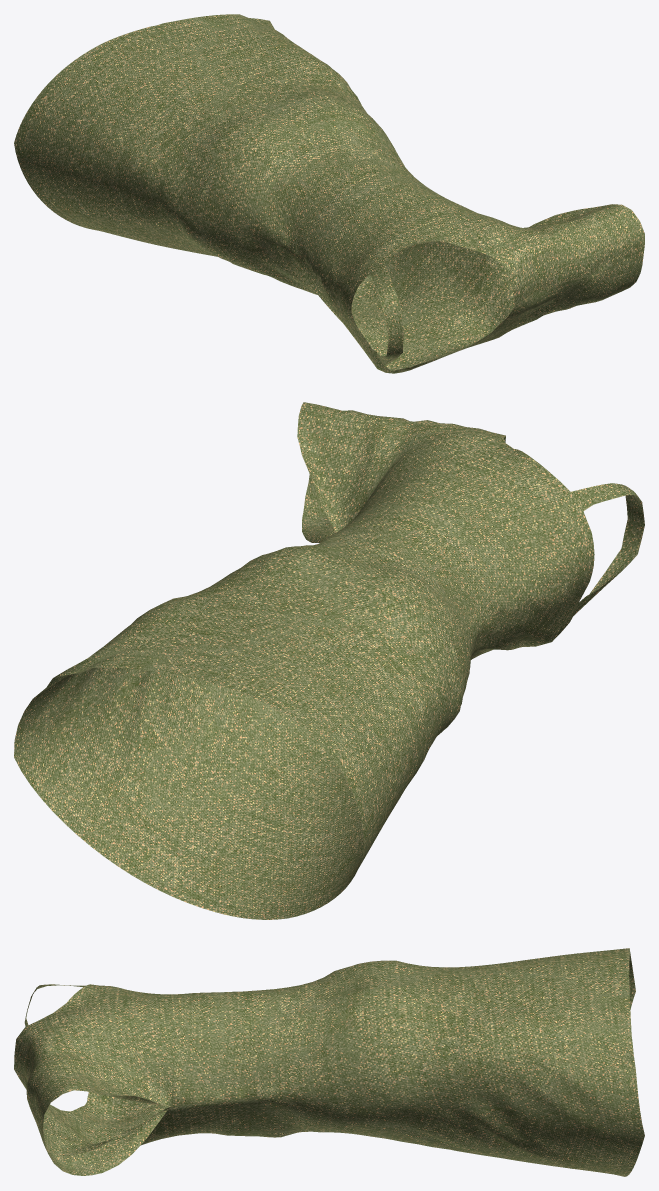
The model's file is dress-asymmetric.obj.
The picture shows the model from 3 angles, top to bottom: view 1: azimuth 30°, elevation 25°; view 2: azimuth 150°, elevation 25°; view 3: azimuth 270°, elevation 25°; orthographic projection. The views are drawn at different scales.
Bounding box in the file's own units: 0.5333 × 0.2966 × 0.859.
Materials: 1 (1 with a texture image).
